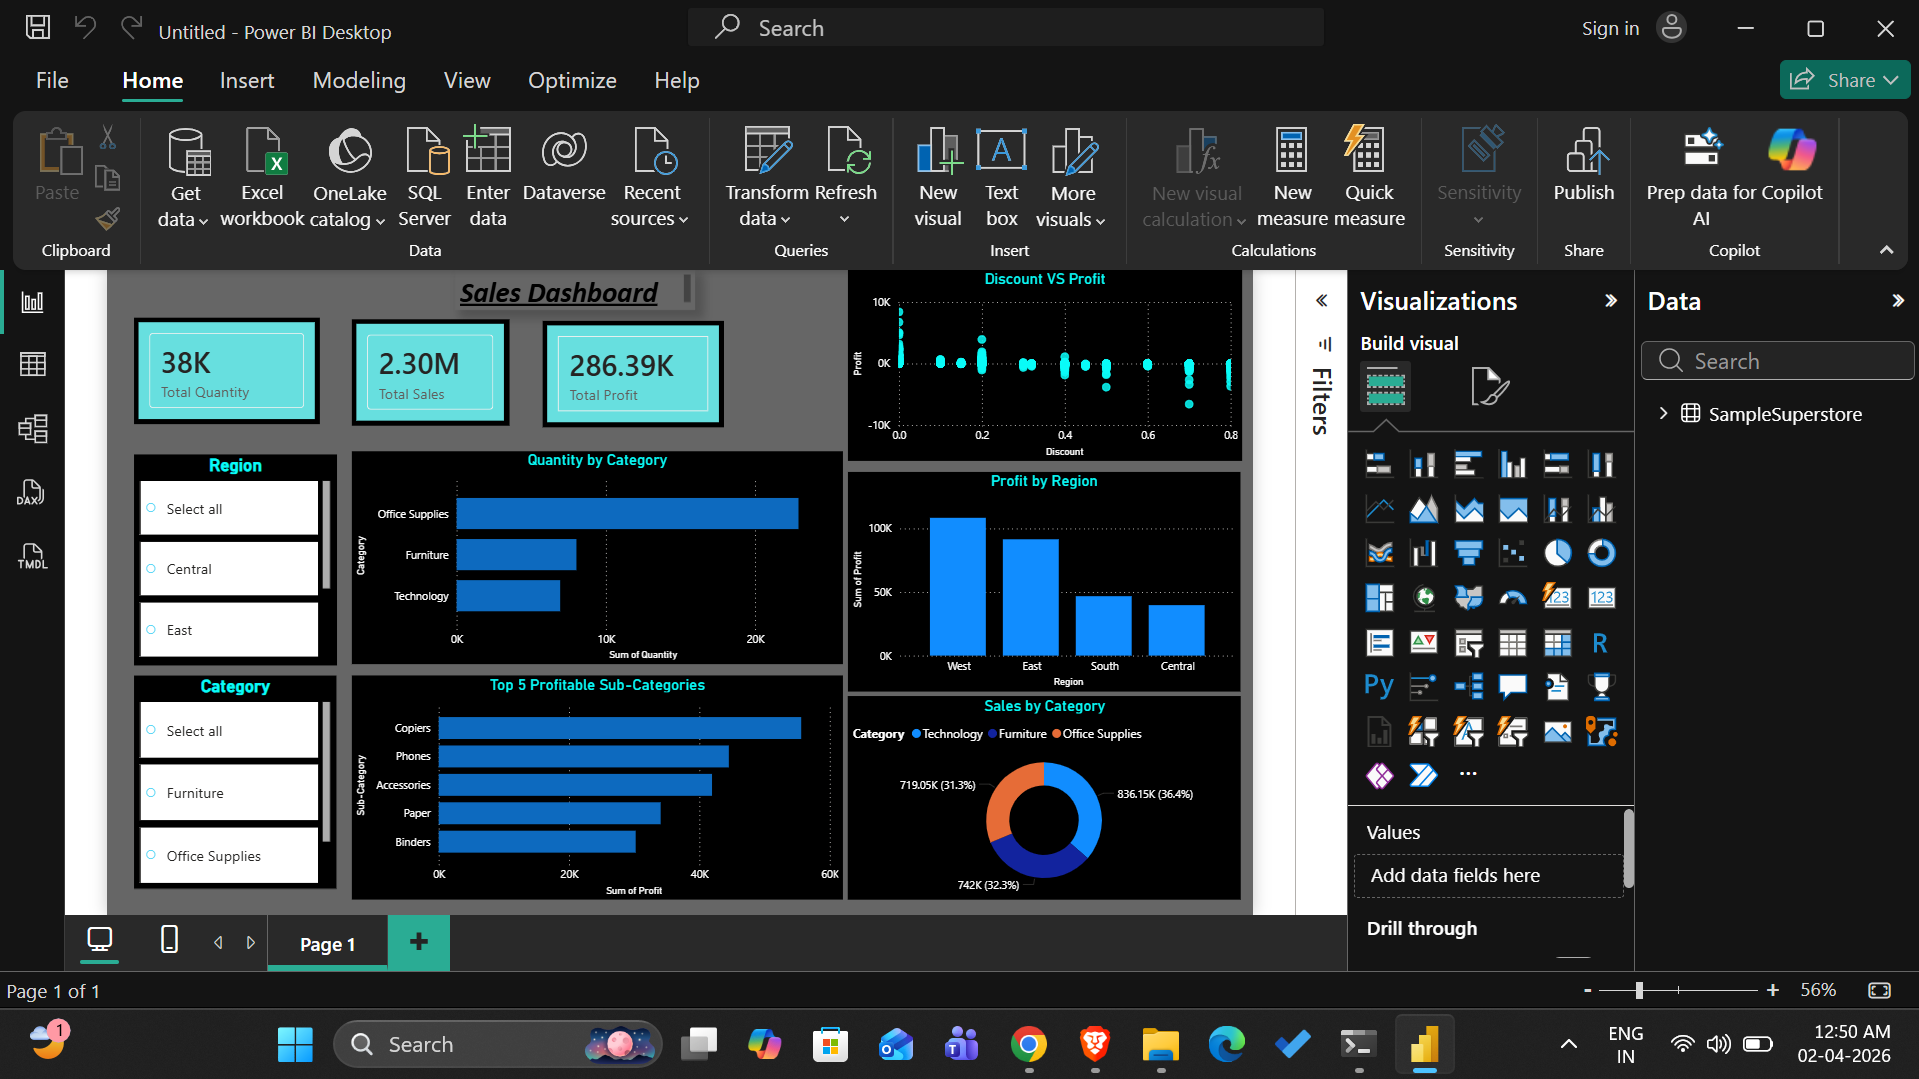

This screenshot's page, from the dashboard's own definition file:
{"tool":"powerbi","page":{"name":"Page 1","canvas":[1280,720],"ordinal":0},"visuals":[{"type":"textbox","box":[388.9,0,268.1,44.4],"z":0},{"type":"donutChart","title":"Sales by Category","fields":{"Category":["SampleSuperstore.Category"],"Y":["Sum(SampleSuperstore.Sales)"]},"box":[827.5,475.9,438.6,227.3],"z":1000},{"type":"clusteredBarChart","title":"Top 5 Profitable Sub-Categories","fields":{"Y":["Sum(SampleSuperstore.Profit)"],"Category":["SampleSuperstore.Sub-Category"]},"box":[273.5,452.8,548.7,250.4],"z":2000},{"type":"scatterChart","title":"Discount VS Profit","fields":{"X":["SampleSuperstore.Discount"],"Y":["SampleSuperstore.Profit"]},"box":[827.5,0,440.4,213.1],"z":3000},{"type":"clusteredBarChart","title":"Quantity by Category","fields":{"Y":["Sum(SampleSuperstore.Quantity)"],"Category":["SampleSuperstore.Category"]},"box":[273.5,202.4,548.7,237.9],"z":4000},{"type":"columnChart","title":"Profit by Region","fields":{"Category":["SampleSuperstore.Region"],"Y":["Sum(SampleSuperstore.Profit)"]},"box":[827.5,225.5,438.6,245],"z":5000},{"type":"cardVisual","fields":{"Data":["Sum(SampleSuperstore.Sales)"]},"box":[273.5,55,175.8,119],"z":6000},{"type":"cardVisual","fields":{"Data":["Sum(SampleSuperstore.Profit)"]},"box":[486.5,56.8,202.4,119],"z":7000},{"type":"cardVisual","fields":{"Data":["Sum(SampleSuperstore.Quantity)"]},"box":[30.2,53.3,207.8,119],"z":8000},{"type":"advancedSlicerVisual","fields":{"Values":["SampleSuperstore.Region"]},"box":[30.2,206,225.5,234.4],"z":9000},{"type":"advancedSlicerVisual","fields":{"Values":["SampleSuperstore.Category"]},"box":[30.2,452.8,225.5,237.9],"z":10000}]}

Visuals, with their boxes on the page's 1280x720 design canvas (x1, y1, x2, y2). These are canvas units, not pixel positions in the 1919x1079 screenshot, which may show the page scaled, cropped or inside an application window:
textbox: 389,0,657,44
"Sales by Category" donutChart: 828,476,1266,703
"Top 5 Profitable Sub-Categories" clusteredBarChart: 274,453,822,703
"Discount VS Profit" scatterChart: 828,0,1268,213
"Quantity by Category" clusteredBarChart: 274,202,822,440
"Profit by Region" columnChart: 828,226,1266,470
cardVisual - Sum(SampleSuperstore.Sales): 274,55,449,174
cardVisual - Sum(SampleSuperstore.Profit): 486,57,689,176
cardVisual - Sum(SampleSuperstore.Quantity): 30,53,238,172
advancedSlicerVisual - SampleSuperstore.Region: 30,206,256,440
advancedSlicerVisual - SampleSuperstore.Category: 30,453,256,691
